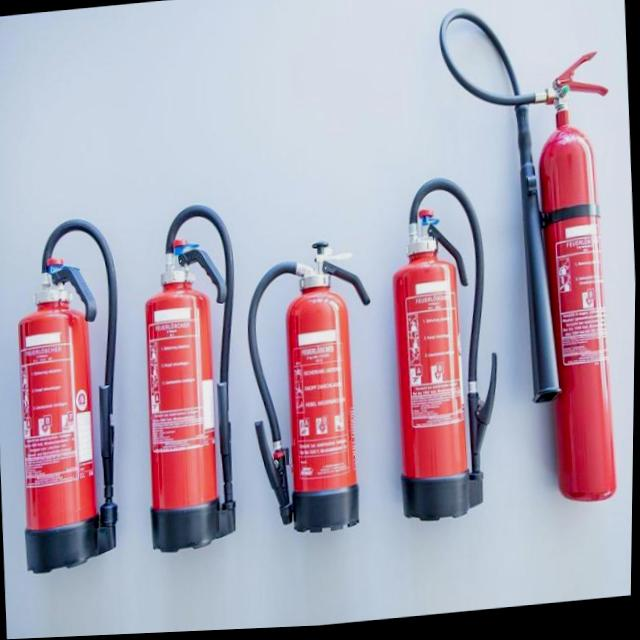FireExtinguisher: (427, 0, 638, 525), (6, 210, 137, 579), (380, 171, 513, 531), (236, 235, 388, 546), (131, 198, 255, 560)
